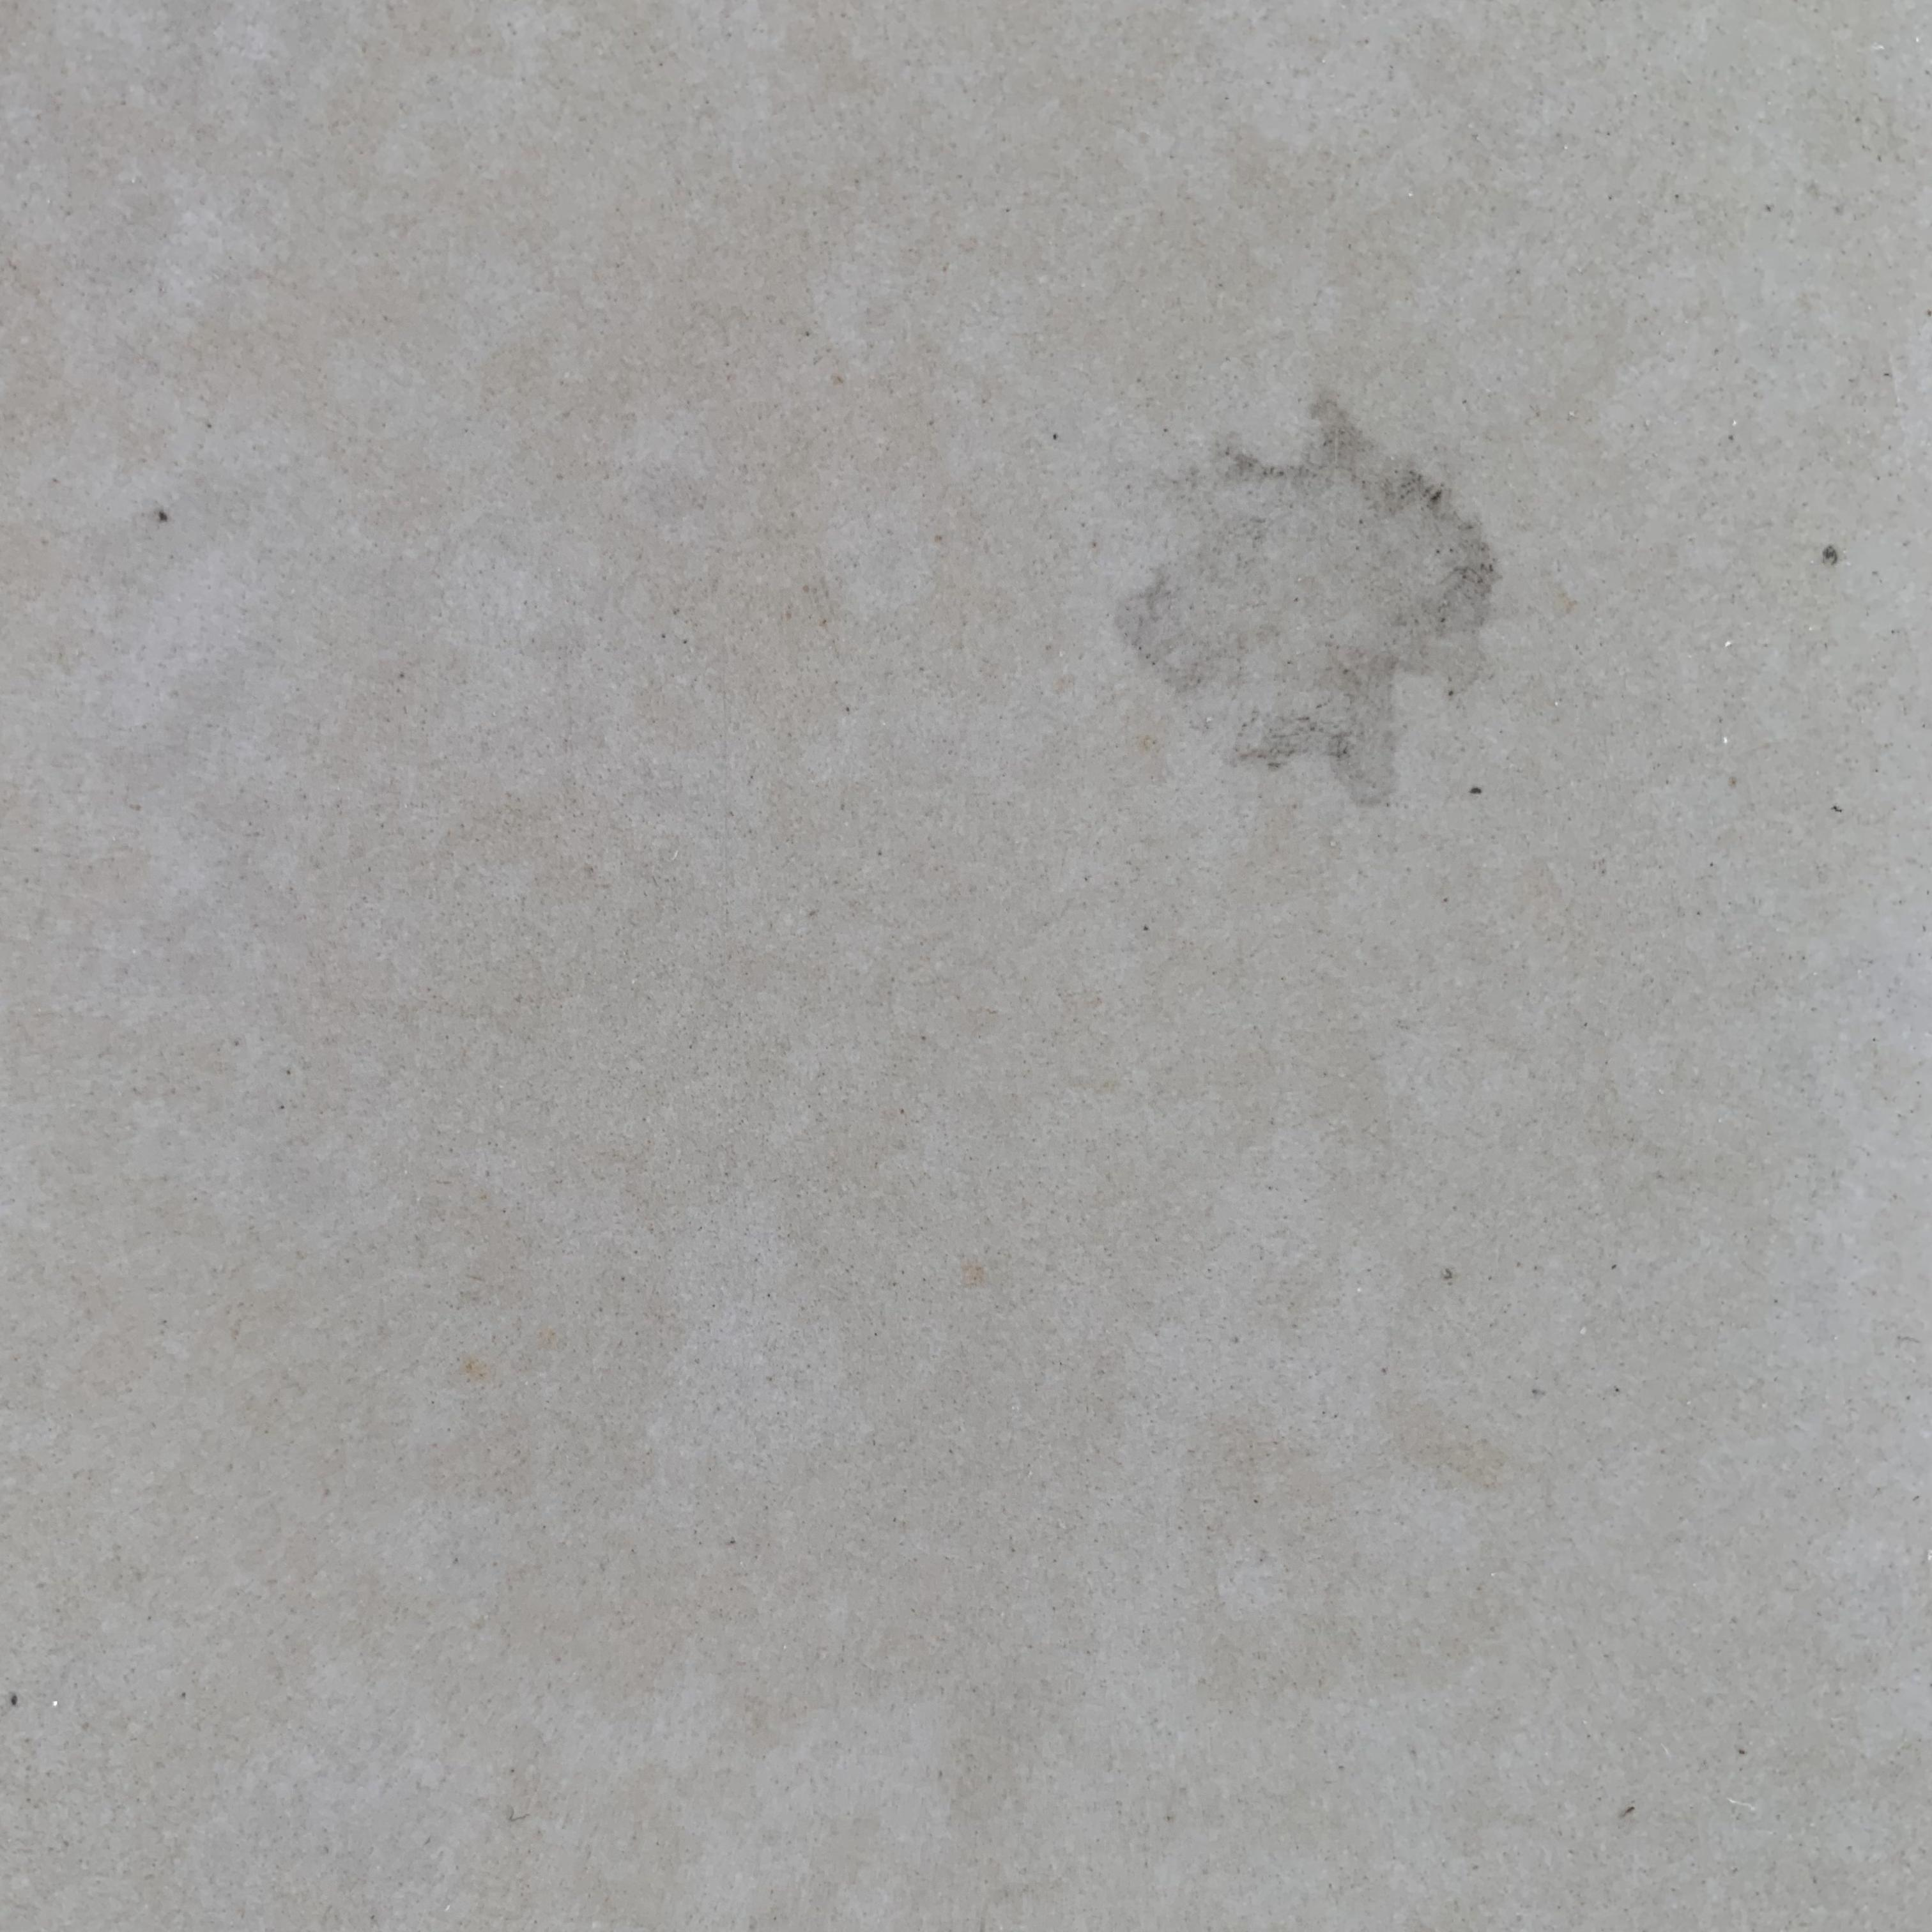grey spot: (1115, 391, 1502, 812), (1822, 545, 1840, 566)
